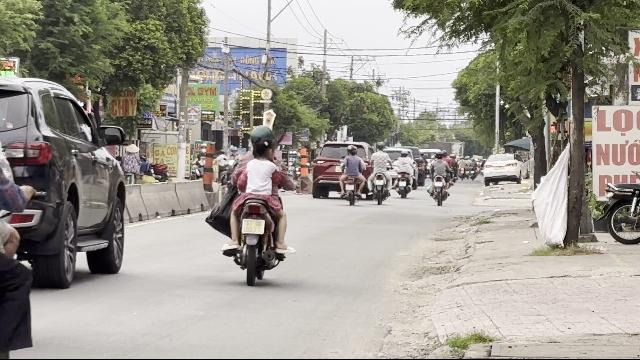helmet: (250, 126, 274, 146)
licenseplate: (242, 218, 264, 234)
motorcyclist: (212, 122, 292, 282)
nohelmet: (250, 138, 274, 158)
